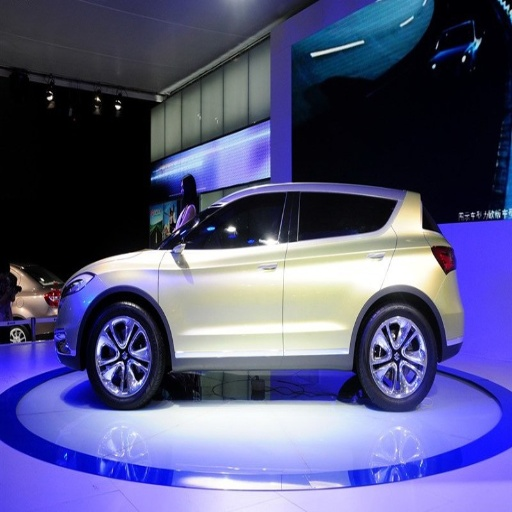back_glass: (368, 1, 449, 60)
back_left_door: (283, 190, 395, 363)
front_left_door: (161, 190, 292, 363)
